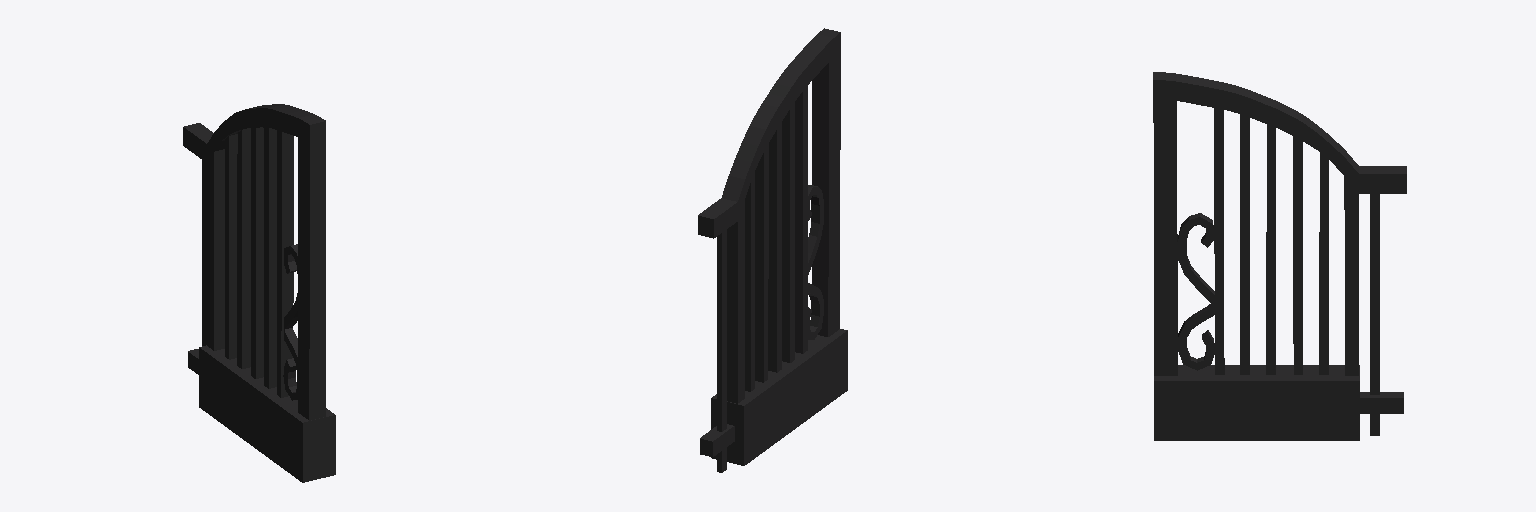
The picture shows the model from 3 angles: view 1: azimuth 30°, elevation 25°; view 2: azimuth 150°, elevation 25°; view 3: azimuth 270°, elevation 25°; orthographic projection.
Parts seen in each view (by area): view 1: 立方体; view 2: 立方体; view 3: 立方体.
Part boxes in pixels (bbox=[...]): 立方体: bbox=[183, 104, 335, 482]; 立方体: bbox=[698, 28, 847, 472]; 立方体: bbox=[1153, 72, 1406, 440].
Bounding box in the file's own units: 0.7996 × 8.32 × 5.31.
Materials: 1 (1 with a texture image).